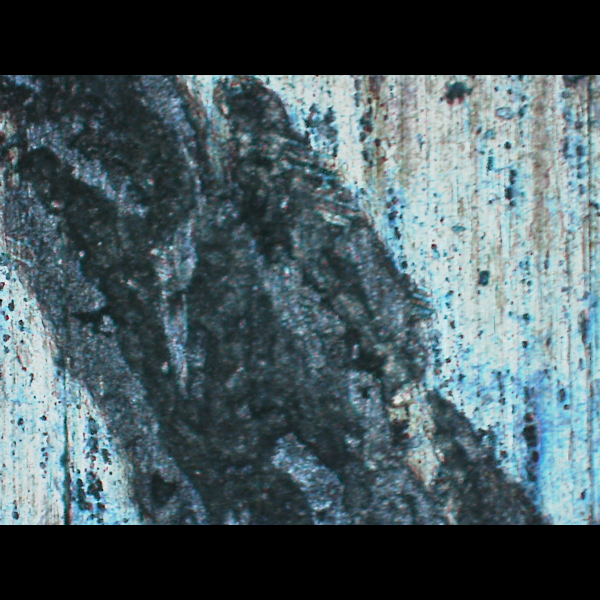d: (0, 74, 570, 523)
